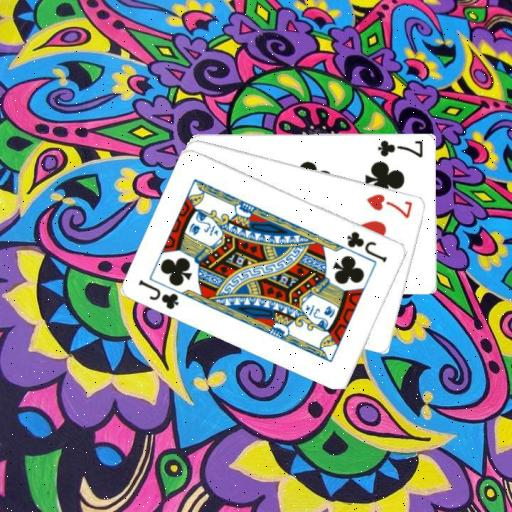7C: (375, 137, 425, 159)
7H: (364, 190, 415, 220)
JC: (344, 228, 389, 264), (136, 276, 182, 311)
